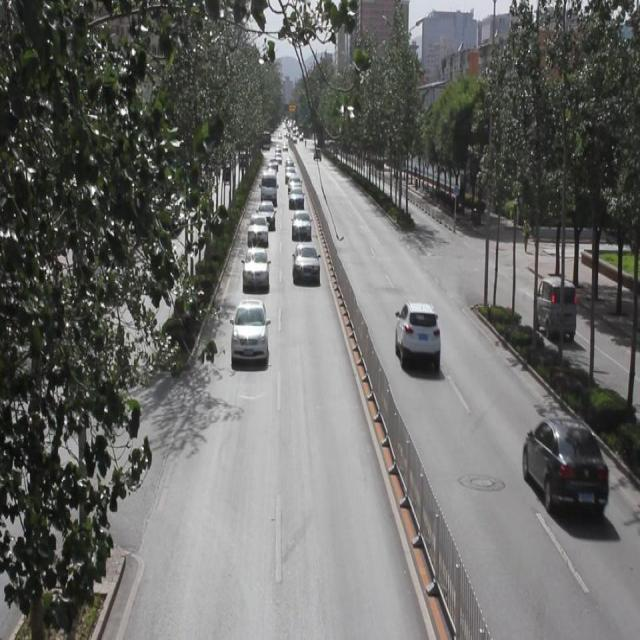car: (521, 412, 606, 516), (394, 301, 439, 370), (231, 297, 268, 363), (240, 246, 268, 290), (292, 241, 319, 284), (246, 212, 267, 245), (290, 208, 310, 240), (256, 197, 274, 228)
truck: (534, 274, 574, 338)
